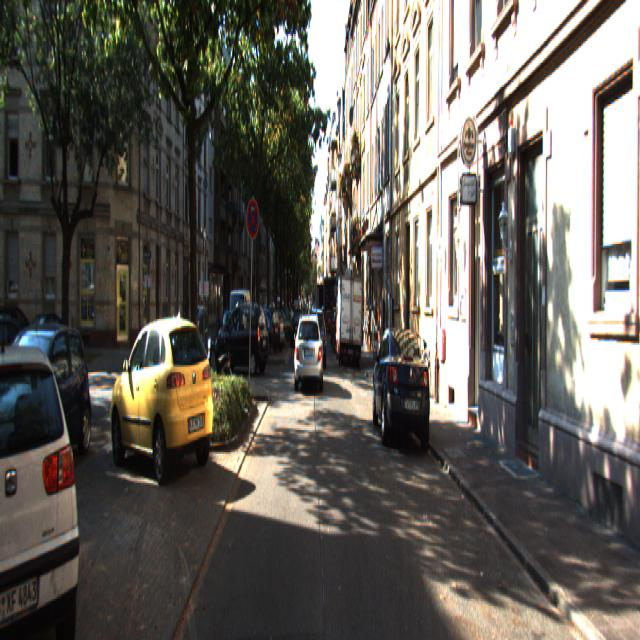Car: (0, 338, 90, 638), (109, 312, 217, 492), (0, 325, 95, 487), (370, 320, 435, 455), (213, 297, 270, 374), (0, 314, 32, 414), (202, 322, 233, 408), (335, 271, 364, 362), (294, 310, 323, 388), (306, 307, 326, 369)
